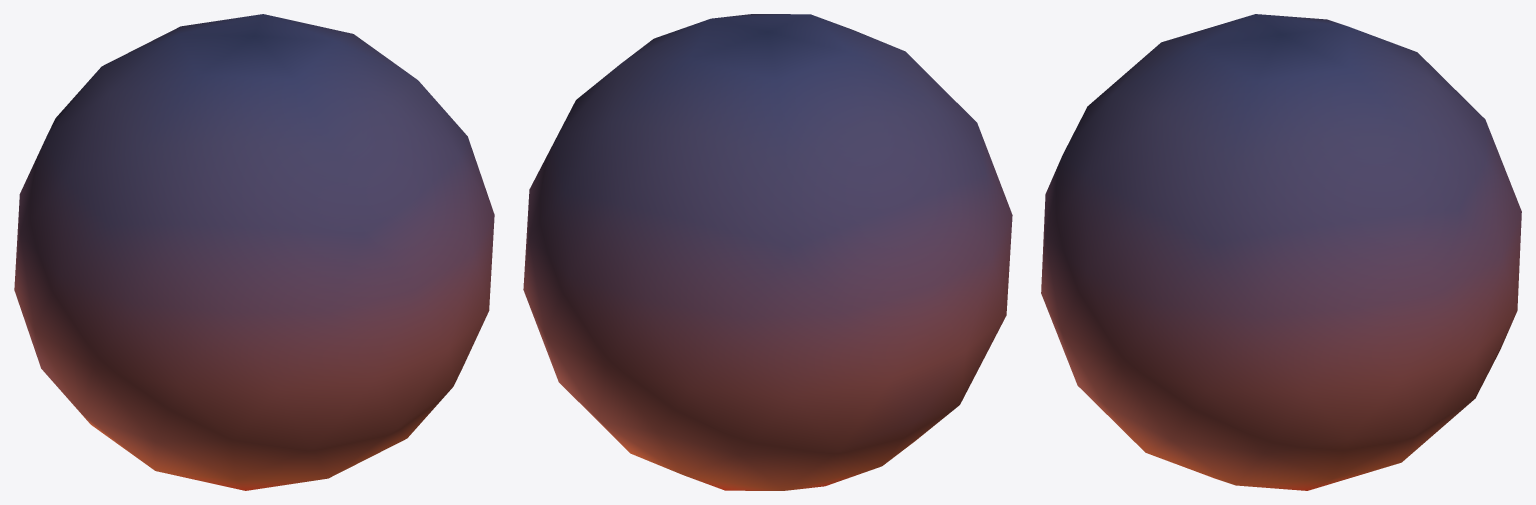
Rendered from SkyDome18.dae.
3 renders of one model, left to right at view 1: azimuth 30°, elevation 25°; view 2: azimuth 150°, elevation 25°; view 3: azimuth 270°, elevation 25°, orthographic.
Parts seen in each view (by area): view 1: F3:GeoDome1-0; view 2: F3:GeoDome1-0; view 3: F3:GeoDome1-0.
Boxes of the visible parts, x1,y1,x2,y2 form: F3:GeoDome1-0: [14, 14, 494, 490]; F3:GeoDome1-0: [523, 14, 1012, 490]; F3:GeoDome1-0: [1041, 14, 1521, 490].
Bounding box in the file's own units: 25 × 25 × 25.
